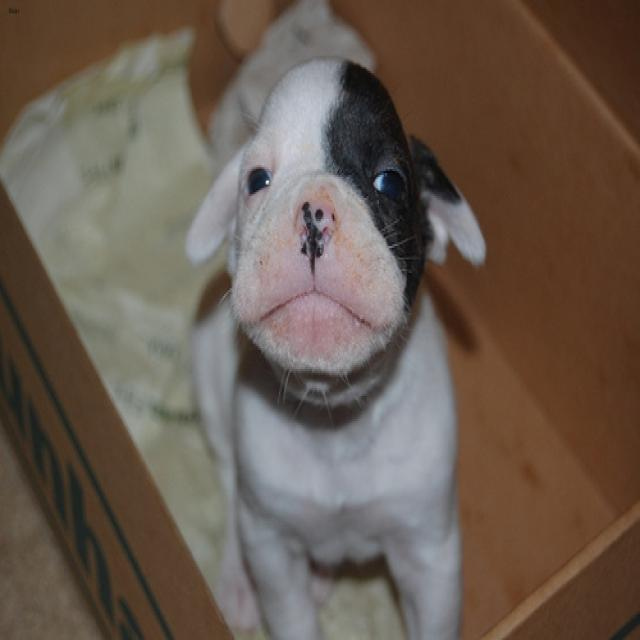dog-american_bulldog: (170, 44, 494, 636)
